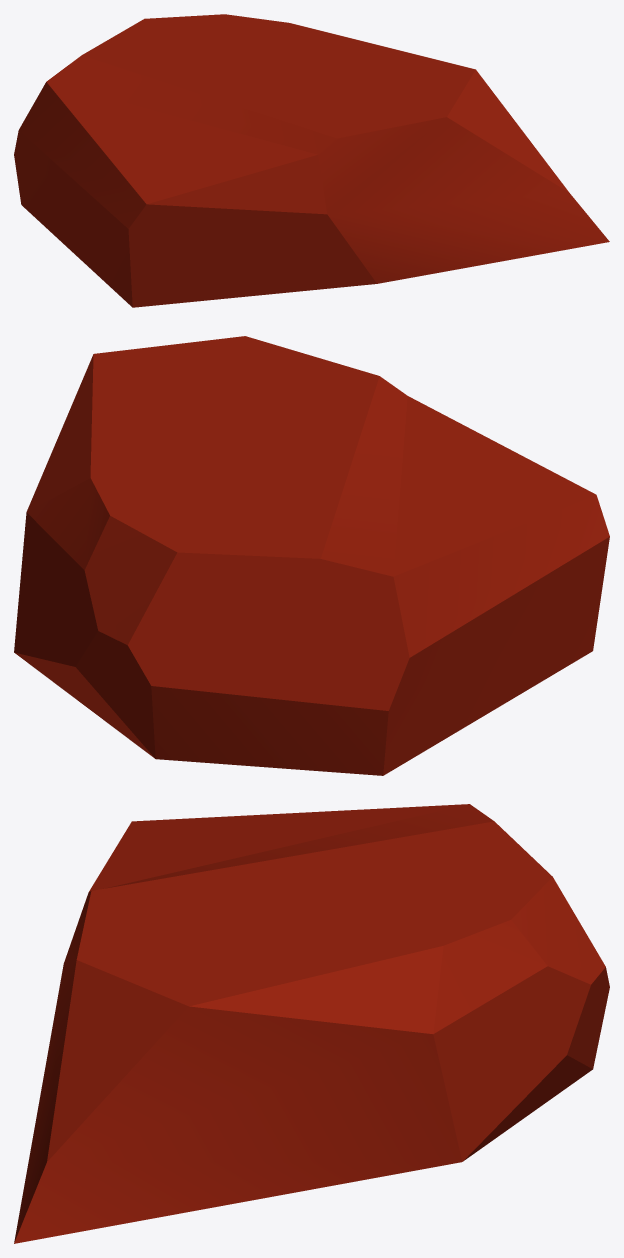
Rendered from SM_Small_Rock_02.fbx.
The picture shows the model from 3 angles, top to bottom: view 1: azimuth 30°, elevation 25°; view 2: azimuth 150°, elevation 25°; view 3: azimuth 270°, elevation 25°; orthographic projection. The views are drawn at different scales.
Visible parts, largest first — view 1: SM_Small_Rock_02; view 2: SM_Small_Rock_02; view 3: SM_Small_Rock_02.
Boxes of the visible parts, x1,y1,x2,y2 form: SM_Small_Rock_02: (14, 14, 609, 307); SM_Small_Rock_02: (14, 336, 609, 775); SM_Small_Rock_02: (14, 804, 609, 1243).
Size of the model in its own units: 13.8 by 4.32 by 12.16.
